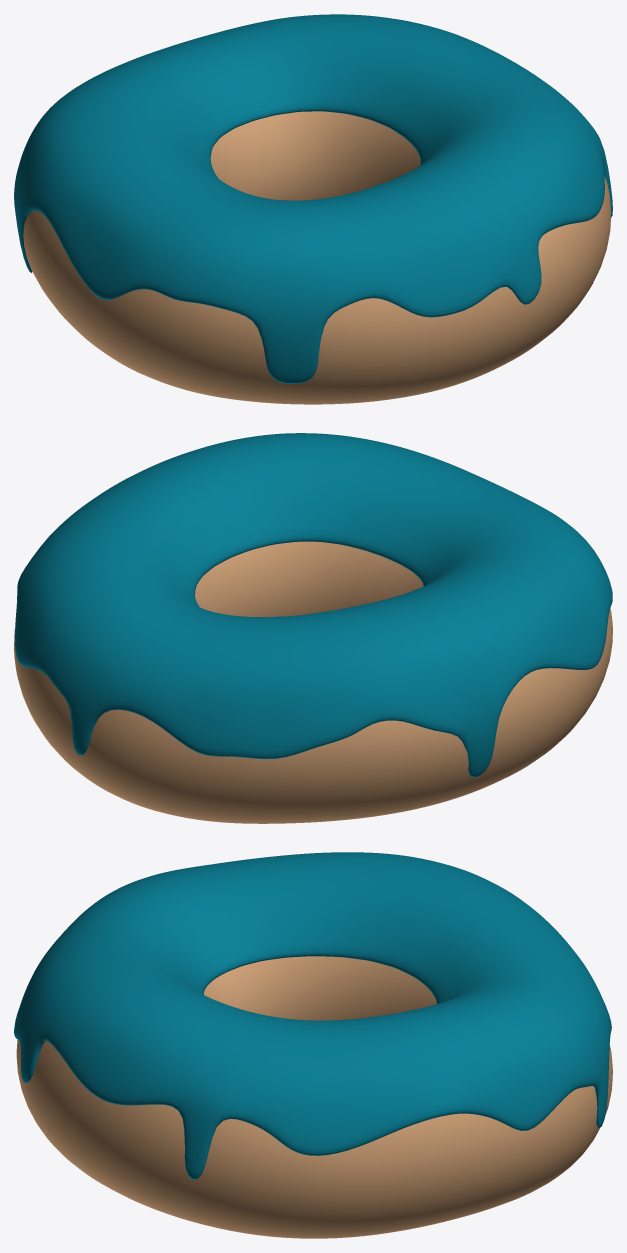
Rendered from donut.fbx.
The picture shows the model from 3 angles, top to bottom: view 1: azimuth 30°, elevation 25°; view 2: azimuth 150°, elevation 25°; view 3: azimuth 270°, elevation 25°; orthographic projection.
Visible parts, largest first — view 1: Icing, Donut; view 2: Icing, Donut; view 3: Icing, Donut.
Part boxes in pixels (x1,y1,x2,y2): Icing: [14, 14, 612, 383]; Donut: [23, 111, 611, 404]; Icing: [15, 433, 612, 777]; Donut: [14, 541, 612, 823]; Icing: [14, 852, 611, 1179]; Donut: [16, 956, 612, 1238].
Size of what is drawn, in the model's own units: 14.95 by 5.92 by 15.14.
